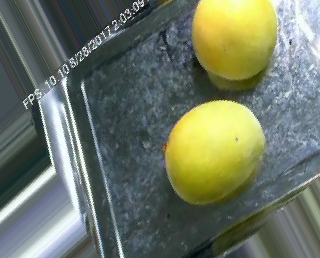Mango: (164, 96, 272, 211), (191, 1, 280, 84)
